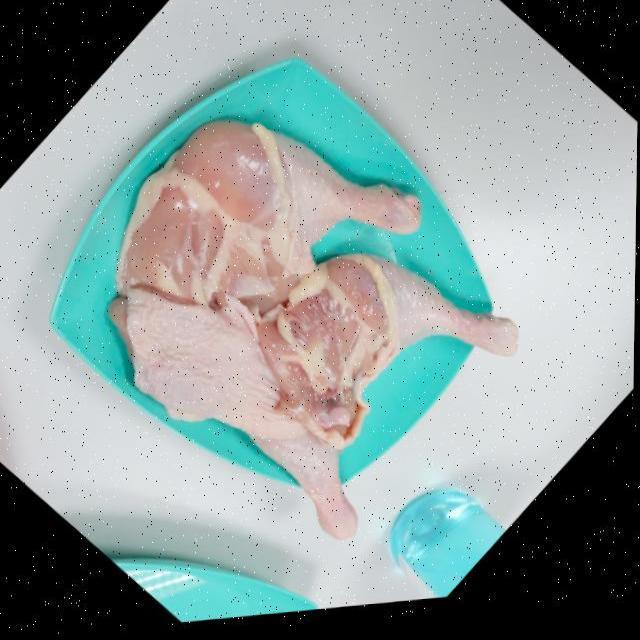quater: (120, 268, 362, 560), (100, 127, 449, 310), (284, 243, 530, 450)
